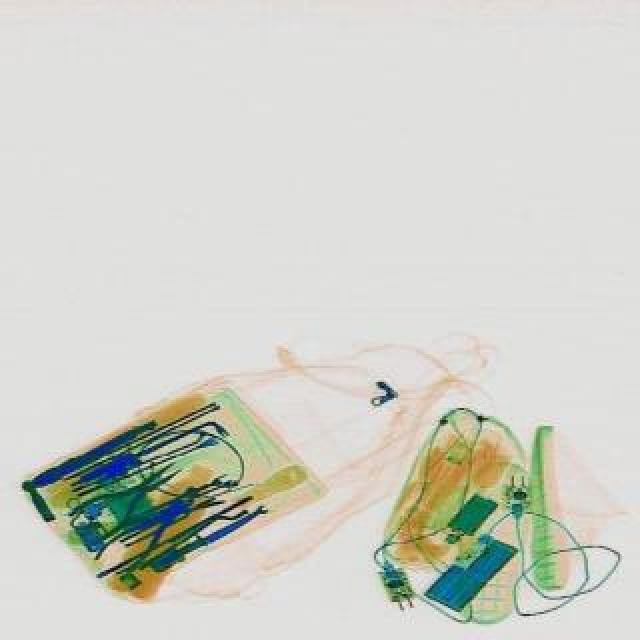wrench: (68, 448, 196, 546), (92, 490, 198, 582)
